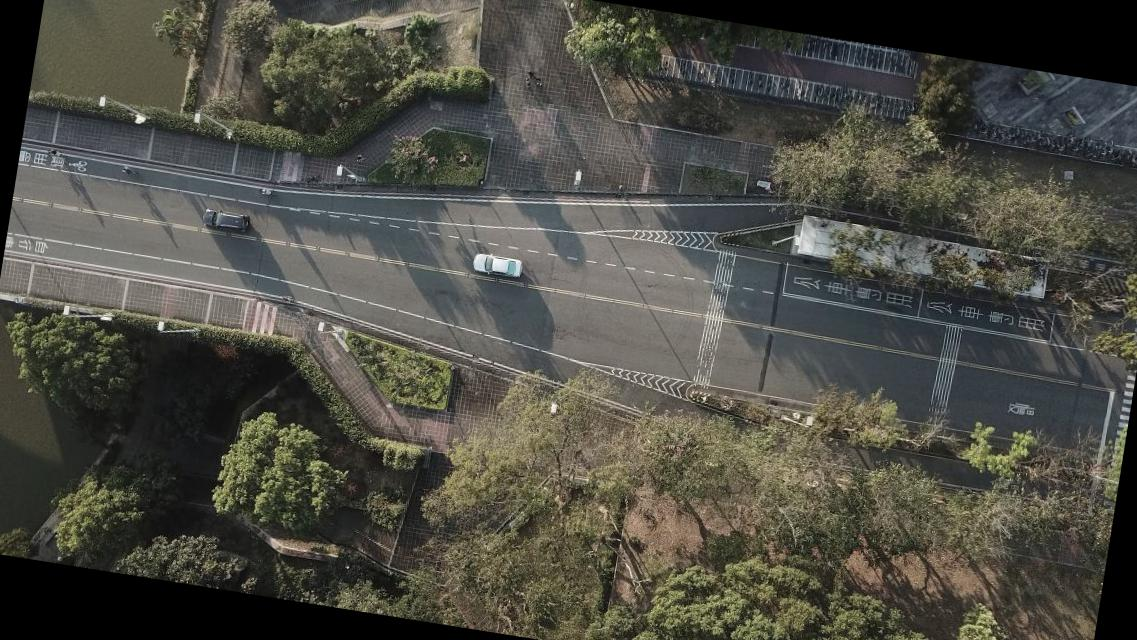vehicle: (472, 250, 524, 280), (200, 206, 250, 232)
